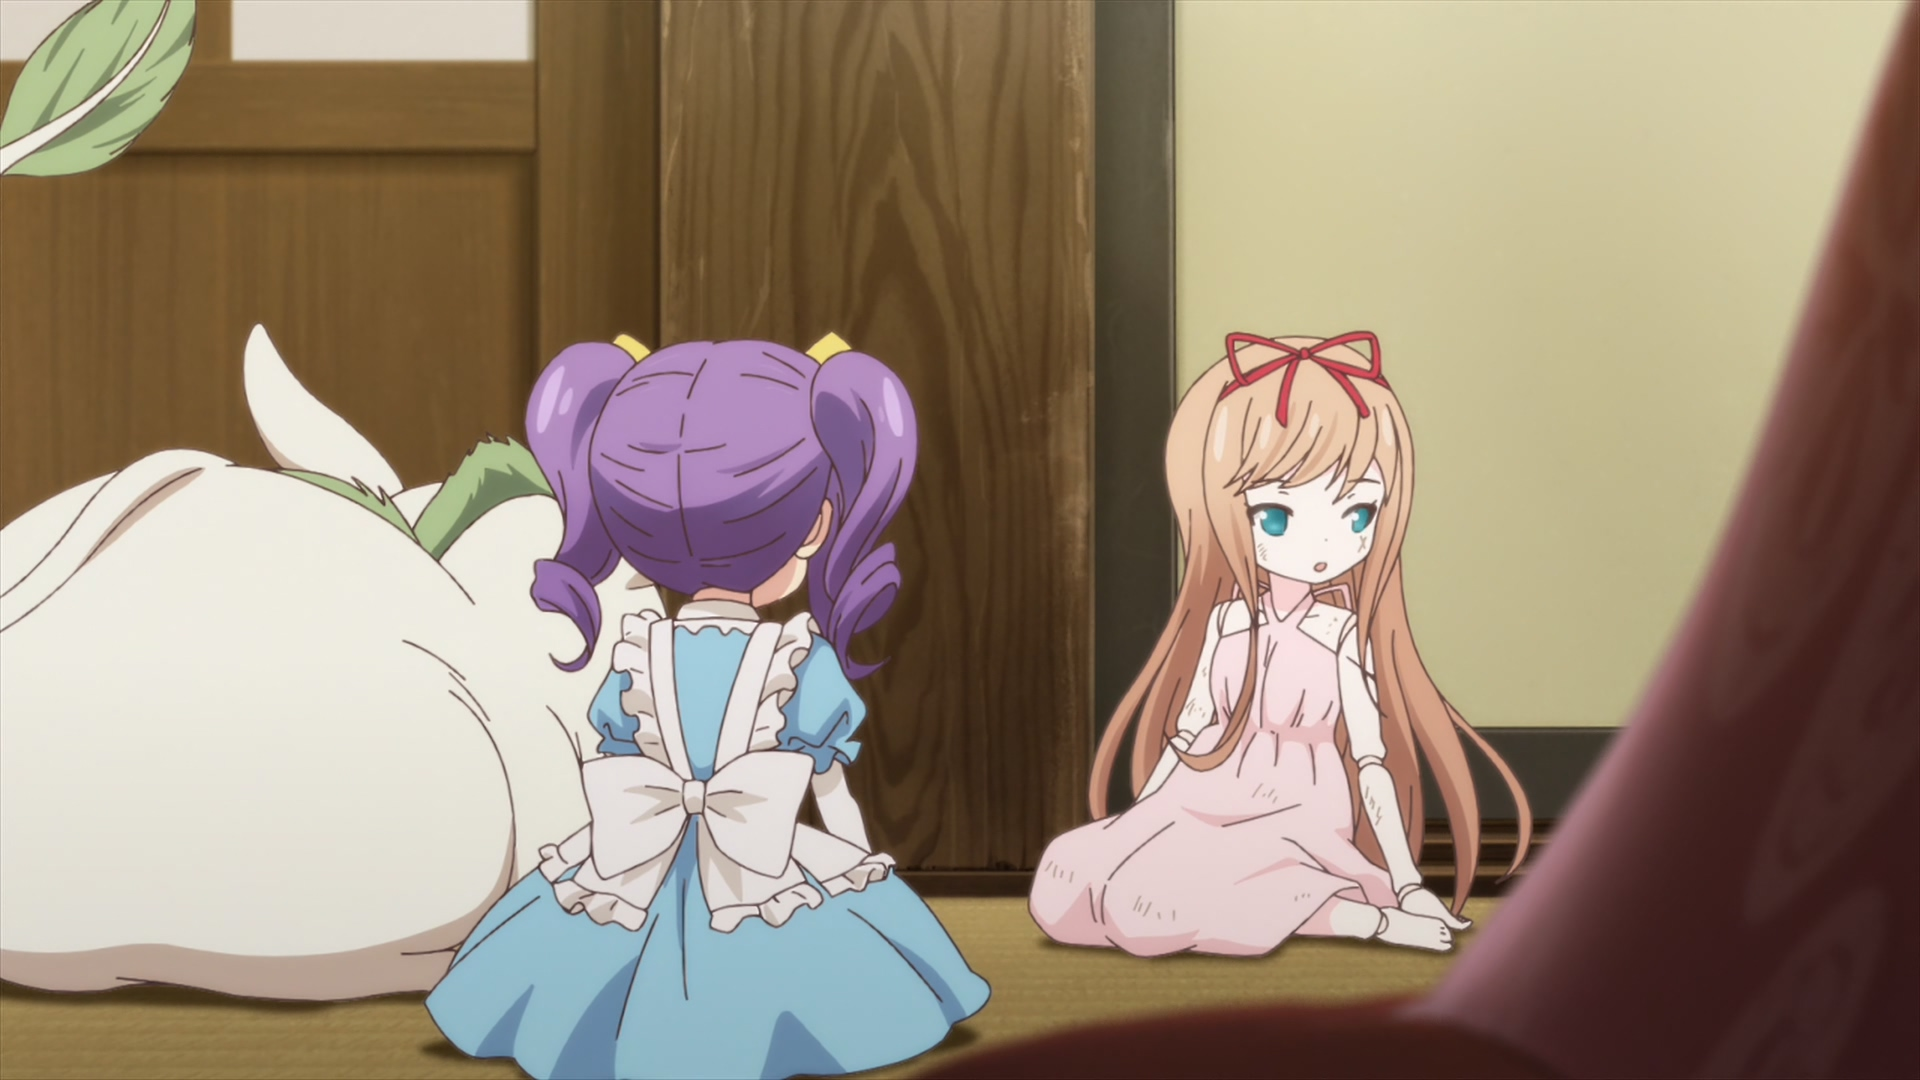其他: (1029, 330, 1530, 960)
瓜之介: (1, 1, 667, 1005)
阿菊: (425, 332, 992, 1080)
